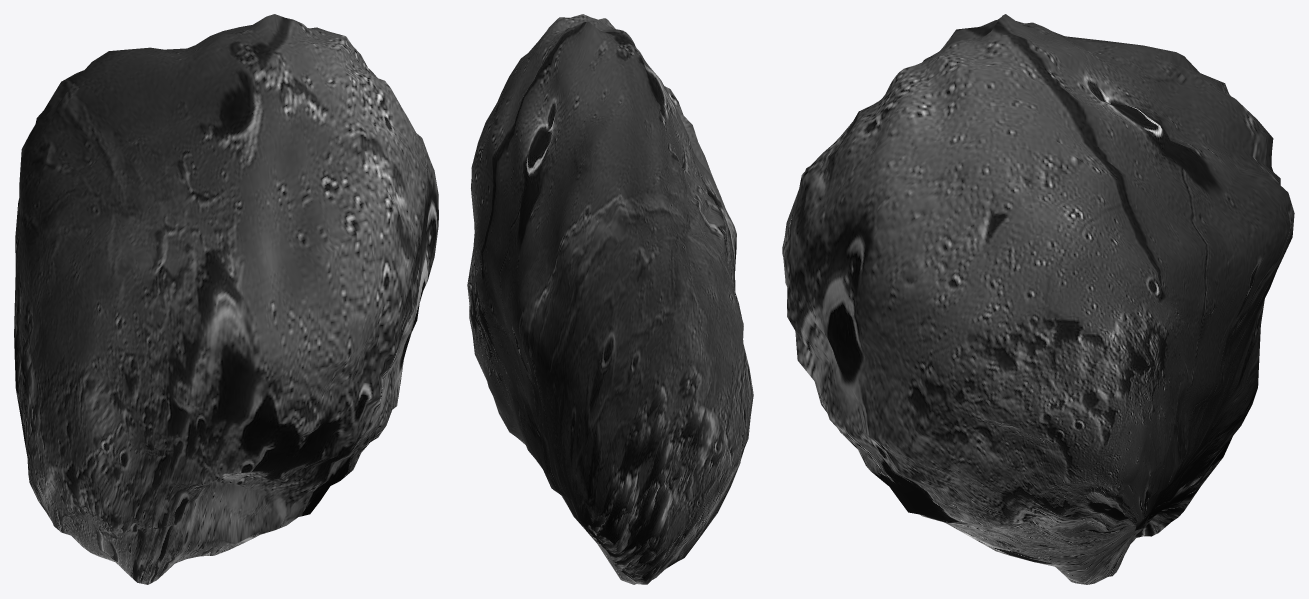
The model's file is meteor2.fbx.
The picture shows the model from 3 angles, left to right: view 1: azimuth 30°, elevation 25°; view 2: azimuth 150°, elevation 25°; view 3: azimuth 270°, elevation 25°; orthographic projection. The views are drawn at different scales.
Parts seen in each view (by area): view 1: Sphere001; view 2: Sphere001; view 3: Sphere001.
Part boxes in pixels (x1=…): Sphere001: x1=14, y1=14, x2=438, y2=584; Sphere001: x1=467, y1=14, x2=753, y2=584; Sphere001: x1=782, y1=14, x2=1294, y2=584.
Size of the model in its own units: 52.65 by 91.66 by 69.02.
